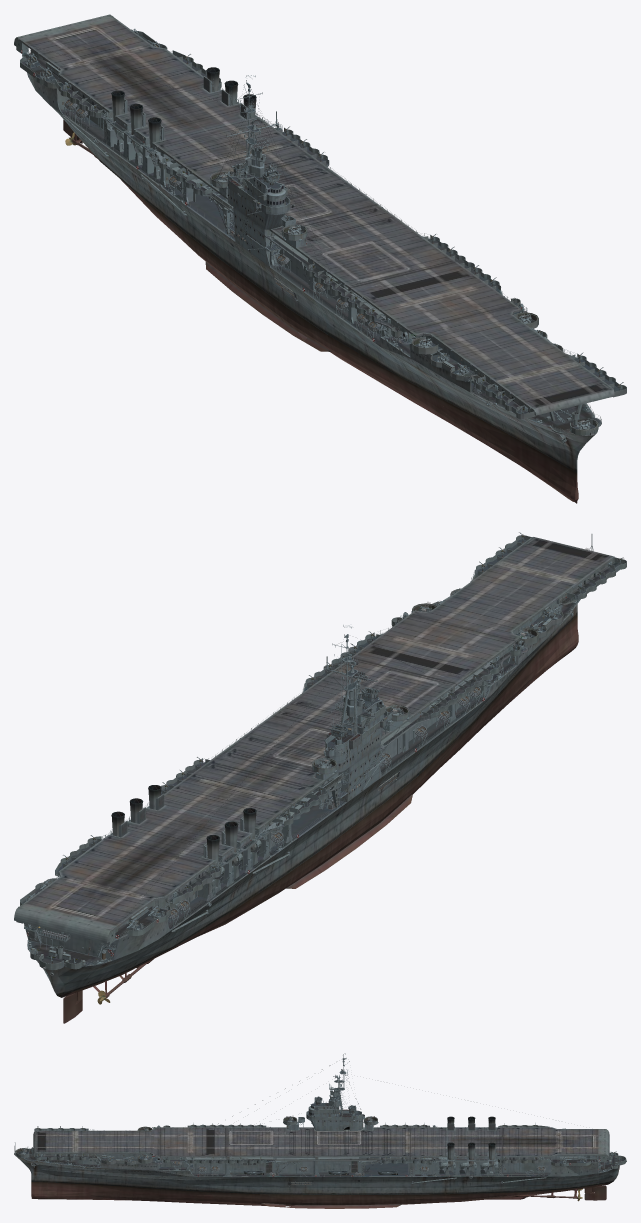
File: uss_ranger_wows-maximum-compressed.glb
3 renders of one model, top to bottom at view 1: azimuth 30°, elevation 25°; view 2: azimuth 150°, elevation 25°; view 3: azimuth 270°, elevation 25°, orthographic. The views are drawn at different scales.
Parts seen in each view (by area): view 1: asa010_ranger_1944_midback_223_227, asa010_ranger_1944_stern_120_229, asa010_ranger_1944_midfront_60_228, asa010_ranger_1944_bow_0_226; view 2: asa010_ranger_1944_stern_120_229, asa010_ranger_1944_midback_223_227, asa010_ranger_1944_midfront_60_228, asa010_ranger_1944_bow_0_226; view 3: asa010_ranger_1944_midback_223_227, asa010_ranger_1944_stern_120_229, asa010_ranger_1944_midfront_60_228, asa010_ranger_1944_bow_0_226.
Boxes of the visible parts, <box> form: asa010_ranger_1944_midback_223_227: <box>140,82,406,341</box>; asa010_ranger_1944_stern_120_229: <box>14,14,282,235</box>; asa010_ranger_1944_midfront_60_228: <box>242,86,527,423</box>; asa010_ranger_1944_bow_0_226: <box>411,308,626,503</box>; asa010_ranger_1944_stern_120_229: <box>14,785,282,1023</box>; asa010_ranger_1944_midback_223_227: <box>125,634,409,917</box>; asa010_ranger_1944_midfront_60_228: <box>294,611,527,816</box>; asa010_ranger_1944_bow_0_226: <box>412,534,626,725</box>; asa010_ranger_1944_midback_223_227: <box>283,1058,456,1208</box>; asa010_ranger_1944_stern_120_229: <box>431,1116,626,1203</box>; asa010_ranger_1944_midfront_60_228: <box>154,1065,330,1207</box>; asa010_ranger_1944_bow_0_226: <box>14,1126,154,1201</box>.
Size of the model in its own units: 2.37 by 3.77 by 15.73.
58 materials, 58 textured.
